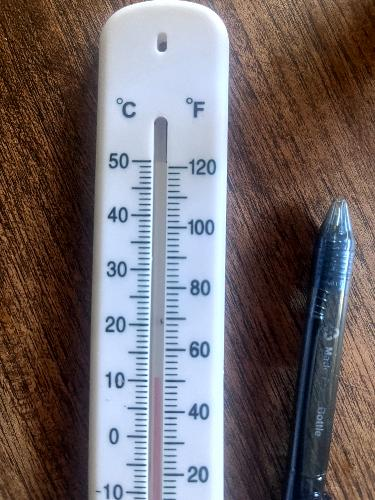thermo: (89, 0, 234, 500)
